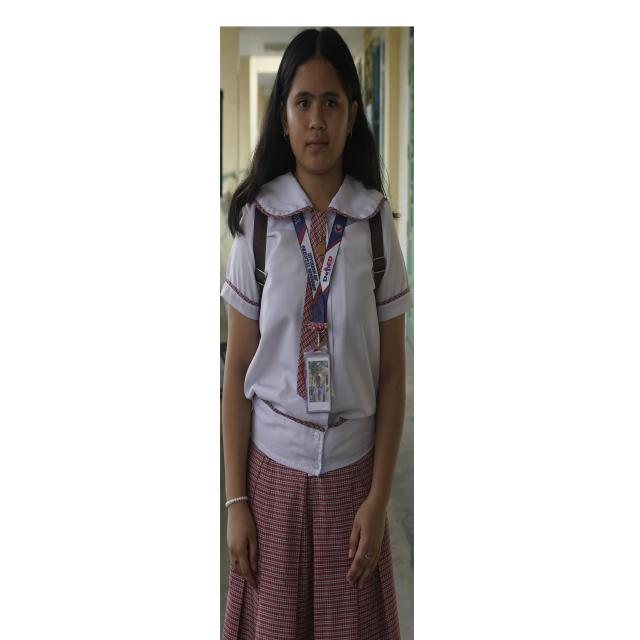id lace: (292, 212, 346, 331)
pologirl: (221, 174, 413, 475), (297, 278, 318, 399), (308, 210, 326, 275), (320, 334, 327, 346)
skirt: (223, 440, 400, 640)
